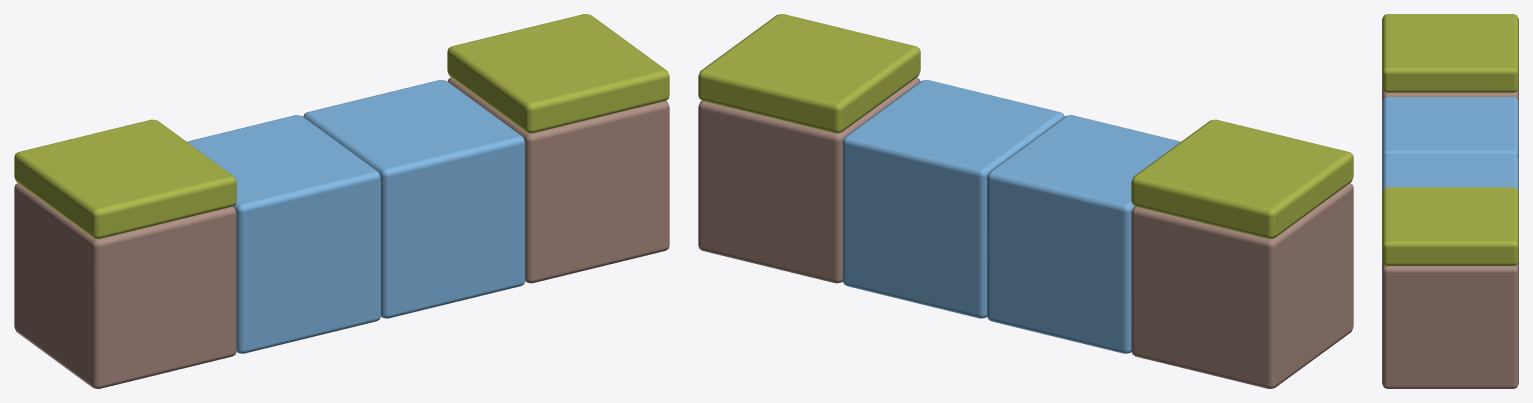
File: cube_with_river.08.glb
3 renders of one model, left to right at view 1: azimuth 30°, elevation 25°; view 2: azimuth 150°, elevation 25°; view 3: azimuth 270°, elevation 25°, orthographic. The views are drawn at different scales.
Visible parts, largest first — view 1: Cube.018; view 2: Cube.018; view 3: Cube.018.
Boxes of the visible parts, x1=… form: Cube.018: x1=14, y1=14, x2=669, y2=388; Cube.018: x1=698, y1=14, x2=1353, y2=388; Cube.018: x1=1382, y1=14, x2=1518, y2=388.
Bounding box in the file's own units: 4 × 1.2 × 1.
1 material, 1 textured.
